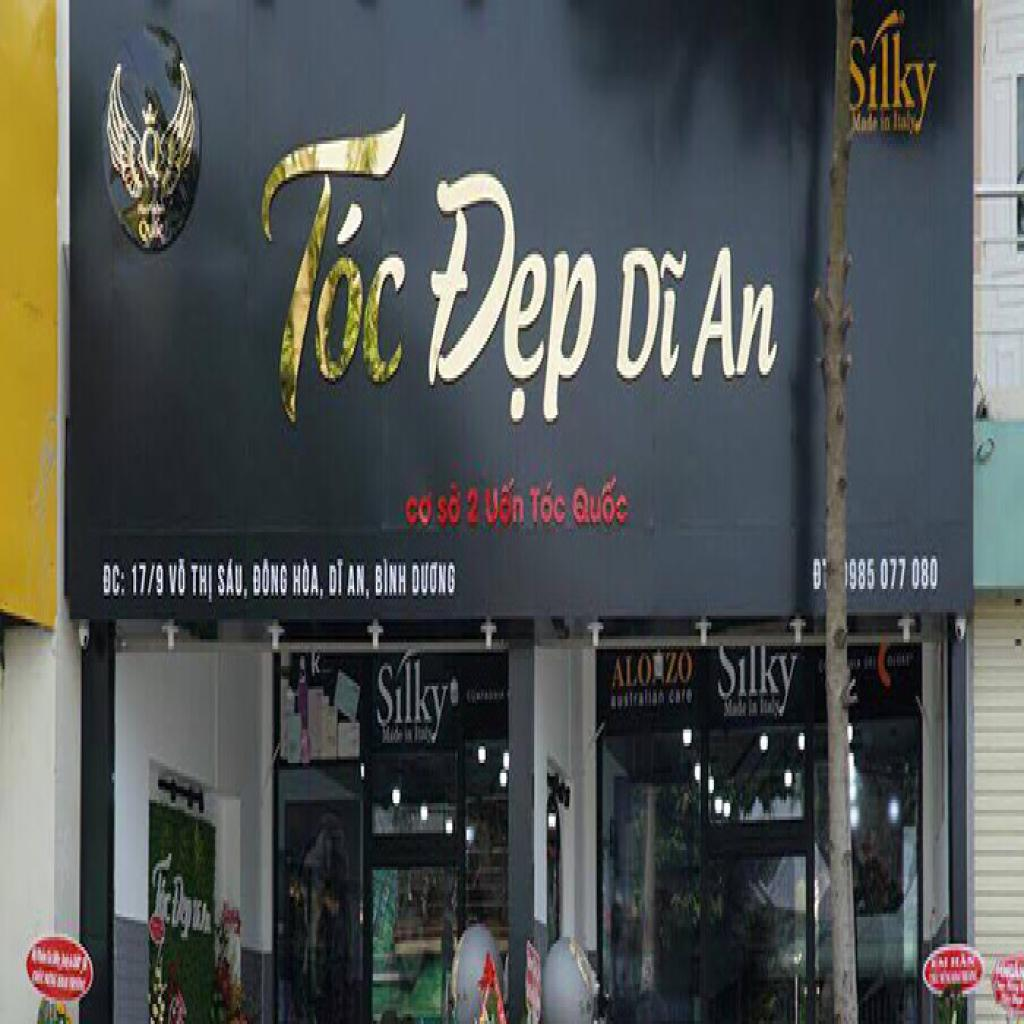text: (242, 100, 424, 432), (422, 168, 612, 428), (684, 248, 786, 388), (847, 10, 951, 141), (612, 244, 694, 392), (376, 646, 459, 749), (717, 639, 800, 720), (848, 556, 940, 596), (572, 478, 630, 528), (149, 844, 177, 930), (484, 478, 527, 528), (168, 870, 195, 947), (530, 478, 568, 528), (412, 559, 458, 599), (613, 653, 654, 696), (252, 556, 290, 599), (218, 559, 252, 606), (610, 686, 667, 713), (375, 556, 408, 602), (293, 559, 326, 602), (436, 478, 464, 528), (132, 562, 165, 602), (405, 489, 435, 532), (346, 562, 372, 609), (666, 650, 696, 690), (142, 128, 161, 188), (192, 562, 215, 609), (99, 562, 126, 602), (165, 556, 189, 599), (852, 110, 880, 140), (328, 556, 346, 602), (139, 214, 165, 244), (892, 110, 918, 140), (464, 485, 480, 532), (760, 693, 782, 723), (668, 686, 696, 709), (724, 699, 749, 723), (382, 726, 405, 750), (414, 726, 434, 753), (814, 559, 824, 596), (312, 650, 324, 680), (748, 696, 760, 726), (404, 722, 415, 750), (880, 114, 892, 137)
